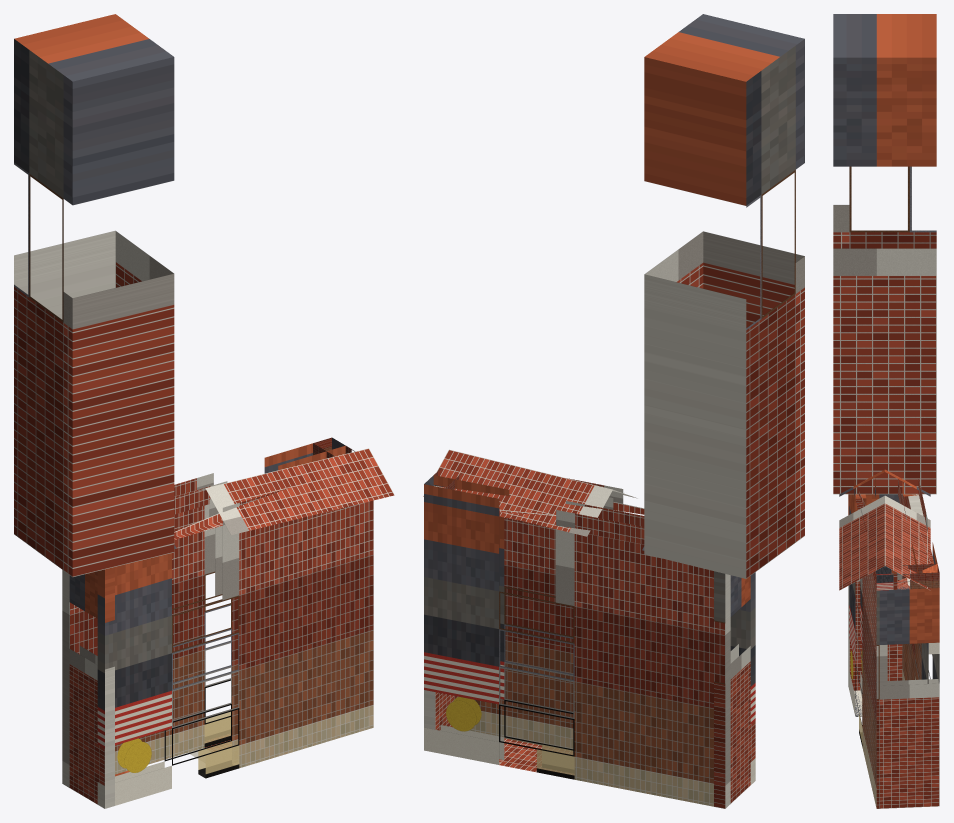
3 renders of one model, left to right at view 1: azimuth 30°, elevation 25°; view 2: azimuth 150°, elevation 25°; view 3: azimuth 270°, elevation 25°, orthographic. The views are drawn at different scales.
Parts seen in each view (by area): view 1: 238536137__chimney_0_xb, 238536137__wall_0_xb, 238536137__wall_2_xb, 238536137_roof_-1_xb, 238536137__wall_3_xb, 238536137__cornice_2, 238536137__wall_0_xf, 238536137__cornice_0, 238536137__wall_2_xf; view 2: 238536137__chimney_0_xb, 238536137__wall_2_xb, 238536137__wall_0_xb, 238536137_roof_1_xb, 238536137__wall_3_xb, 238536137__cornice_2, 238536137__base, 238536137__wall_2_xf, 238536137__wall_1_xb; view 3: 238536137__chimney_0_xb, 238536137__wall_1_xb, 238536137__wall_0_xb, 238536137_roof_-1_xb, 238536137_roof_1_xb, 238536137__wall_3_xb, 238536137__wall_2_xb, 238536137__cornice_1, 238536137__cornice_2, 238536137__cornice_0.
Part boxes in pixels (x1,y1,x2,y2): 238536137__chimney_0_xb: [14, 14, 174, 576]; 238536137__wall_0_xb: [97, 500, 373, 808]; 238536137__wall_2_xb: [62, 504, 230, 787]; 238536137_roof_-1_xb: [174, 448, 394, 548]; 238536137__wall_3_xb: [69, 567, 114, 808]; 238536137__cornice_2: [174, 438, 345, 514]; 238536137__wall_0_xf: [198, 741, 238, 777]; 238536137__cornice_0: [174, 487, 290, 539]; 238536137__wall_2_xf: [205, 712, 230, 746]; 238536137__chimney_0_xb: [644, 14, 804, 578]; 238536137__wall_2_xb: [424, 502, 730, 808]; 238536137__wall_0_xb: [469, 510, 755, 784]; 238536137_roof_1_xb: [423, 449, 644, 550]; 238536137__wall_3_xb: [714, 571, 755, 808]; 238536137__cornice_2: [424, 475, 644, 544]; 238536137__base: [499, 738, 572, 773]; 238536137__wall_2_xf: [537, 745, 574, 778]; 238536137__wall_1_xb: [424, 690, 458, 730]; 238536137__chimney_0_xb: [833, 14, 936, 494]; 238536137__wall_1_xb: [876, 586, 939, 808]; 238536137__wall_0_xb: [849, 494, 887, 807]; 238536137_roof_-1_xb: [839, 469, 884, 590]; 238536137_roof_1_xb: [885, 469, 930, 590]; 238536137__wall_3_xb: [848, 494, 902, 690]; 238536137__wall_2_xb: [902, 494, 939, 683]; 238536137__cornice_1: [875, 564, 939, 590]; 238536137__cornice_2: [898, 479, 937, 573]; 238536137__cornice_0: [854, 479, 897, 589].
Size of the model in its own units: 0.4813 by 1.05 by 0.1541.
1 material, 1 textured.
